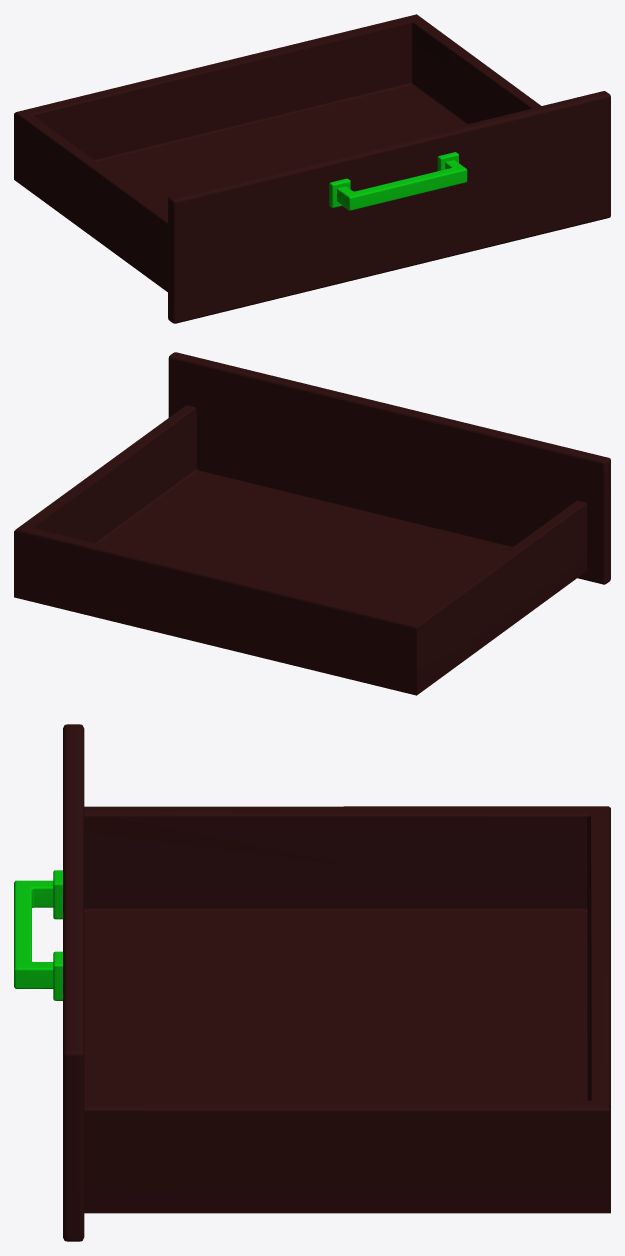
Rendered from kuchnia_07_szafka_stojaca_szuflada.fbx.
3 views of the same model, one above another, from view 1: azimuth 30°, elevation 25°; view 2: azimuth 150°, elevation 25°; view 3: azimuth 270°, elevation 25° (orthographic). The views are drawn at different scales.
Visible parts, largest first — view 1: Mesh; view 2: Mesh; view 3: Mesh.
Boxes of the visible parts, x1,y1,x2,y2 form: Mesh: (14, 14, 610, 323); Mesh: (14, 352, 610, 695); Mesh: (14, 724, 610, 1241).
Bounding box in the file's own units: 80 × 21.62 × 61.2.
